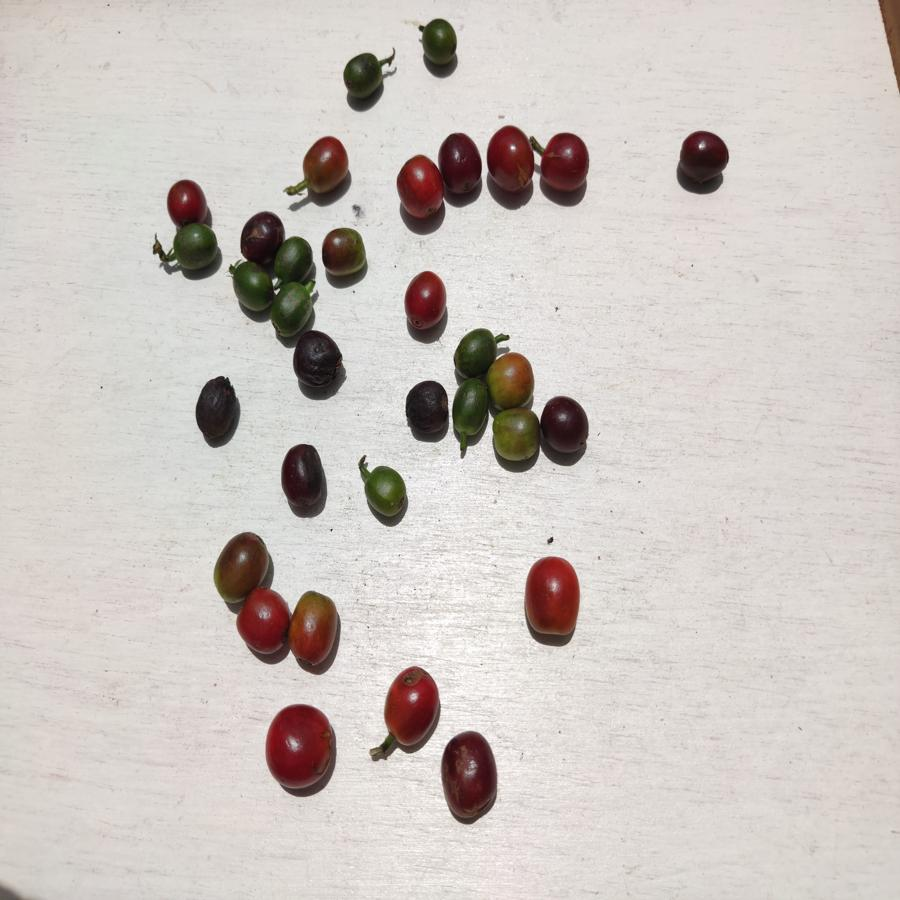Inmaduro: (364, 462, 407, 520), (170, 224, 223, 268), (231, 262, 273, 313), (271, 283, 317, 329), (342, 51, 386, 99), (421, 18, 461, 68), (452, 381, 487, 437), (454, 329, 489, 382), (282, 233, 314, 277)
Maduro: (265, 704, 333, 790), (523, 555, 581, 640), (386, 663, 439, 747), (239, 590, 291, 656), (539, 130, 591, 195), (489, 125, 535, 195), (398, 155, 445, 217), (405, 268, 448, 331), (167, 179, 212, 223)
Pinton: (291, 590, 338, 668), (213, 529, 271, 589), (302, 135, 351, 196), (490, 408, 541, 463), (488, 354, 534, 409), (321, 227, 369, 279)
Sobremaduro: (440, 730, 499, 820), (281, 445, 327, 513), (195, 373, 238, 445), (541, 396, 593, 455), (294, 331, 343, 393), (676, 132, 731, 185), (439, 132, 483, 191), (406, 380, 448, 441), (239, 211, 276, 260)
